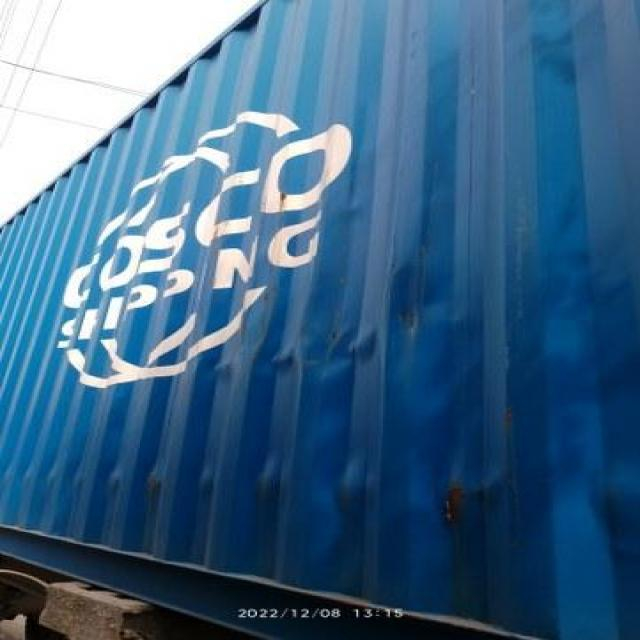Rust: (426, 487, 485, 537)
